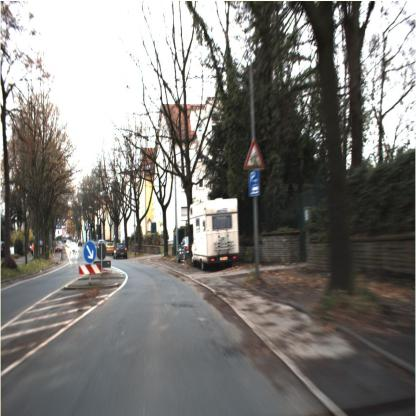danger: (242, 135, 267, 175)
mandatory: (82, 237, 97, 266)
